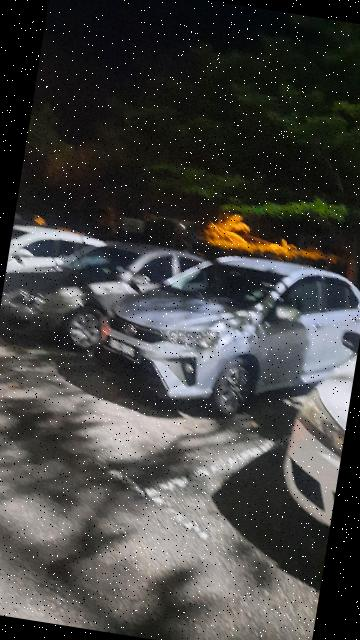License_Plate: (103, 333, 147, 366)
car: (89, 233, 360, 434), (1, 223, 228, 373), (275, 321, 360, 530)
